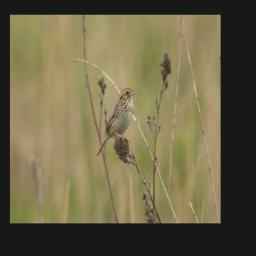Sparrow: (95, 86, 137, 155)
